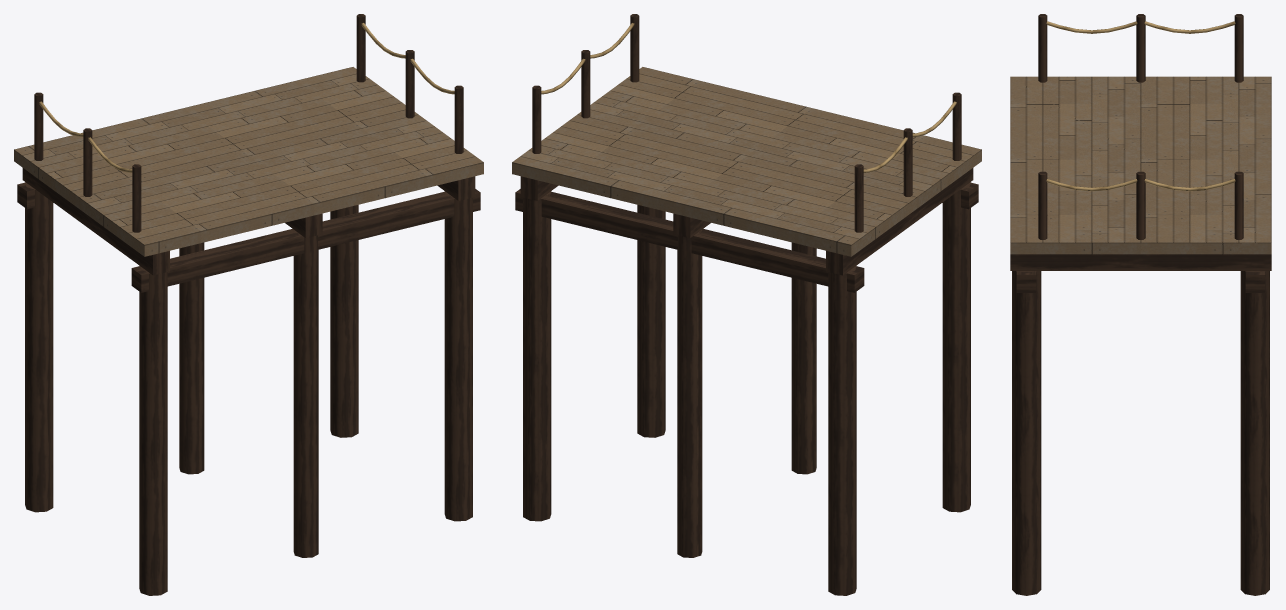
File: HO_Harbour_Pier_Deck_8.fbx
3 views of the same model, side by side, from view 1: azimuth 30°, elevation 25°; view 2: azimuth 150°, elevation 25°; view 3: azimuth 270°, elevation 25° (orthographic).
Visible parts, largest first — view 1: HO_Harbour_Pier_Deck_8__Timber_Dark, HO_Harbour_Pier_Deck_8__Wood_Planks, HO_Harbour_Pier_Deck_8__Rope; view 2: HO_Harbour_Pier_Deck_8__Timber_Dark, HO_Harbour_Pier_Deck_8__Wood_Planks, HO_Harbour_Pier_Deck_8__Rope; view 3: HO_Harbour_Pier_Deck_8__Wood_Planks, HO_Harbour_Pier_Deck_8__Timber_Dark, HO_Harbour_Pier_Deck_8__Rope.
Part boxes in pixels (x1,y1,x2,y2): HO_Harbour_Pier_Deck_8__Timber_Dark: [17, 14, 480, 595]; HO_Harbour_Pier_Deck_8__Wood_Planks: [14, 67, 483, 256]; HO_Harbour_Pier_Deck_8__Rope: [39, 23, 454, 172]; HO_Harbour_Pier_Deck_8__Timber_Dark: [515, 14, 978, 595]; HO_Harbour_Pier_Deck_8__Wood_Planks: [512, 67, 981, 256]; HO_Harbour_Pier_Deck_8__Rope: [541, 23, 956, 172]; HO_Harbour_Pier_Deck_8__Wood_Planks: [1010, 76, 1271, 254]; HO_Harbour_Pier_Deck_8__Timber_Dark: [1010, 14, 1271, 595]; HO_Harbour_Pier_Deck_8__Rope: [1046, 21, 1235, 191].
Size of the model in its own units: 12 by 14.2 by 8.
